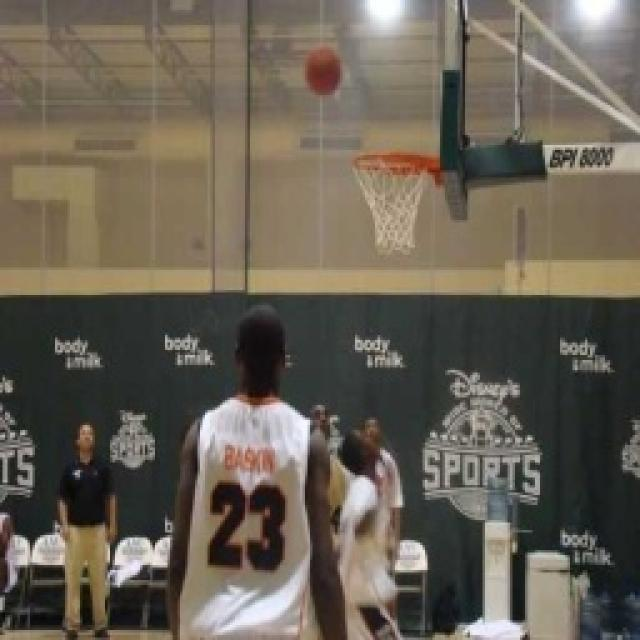rim: (298, 38, 350, 106)
